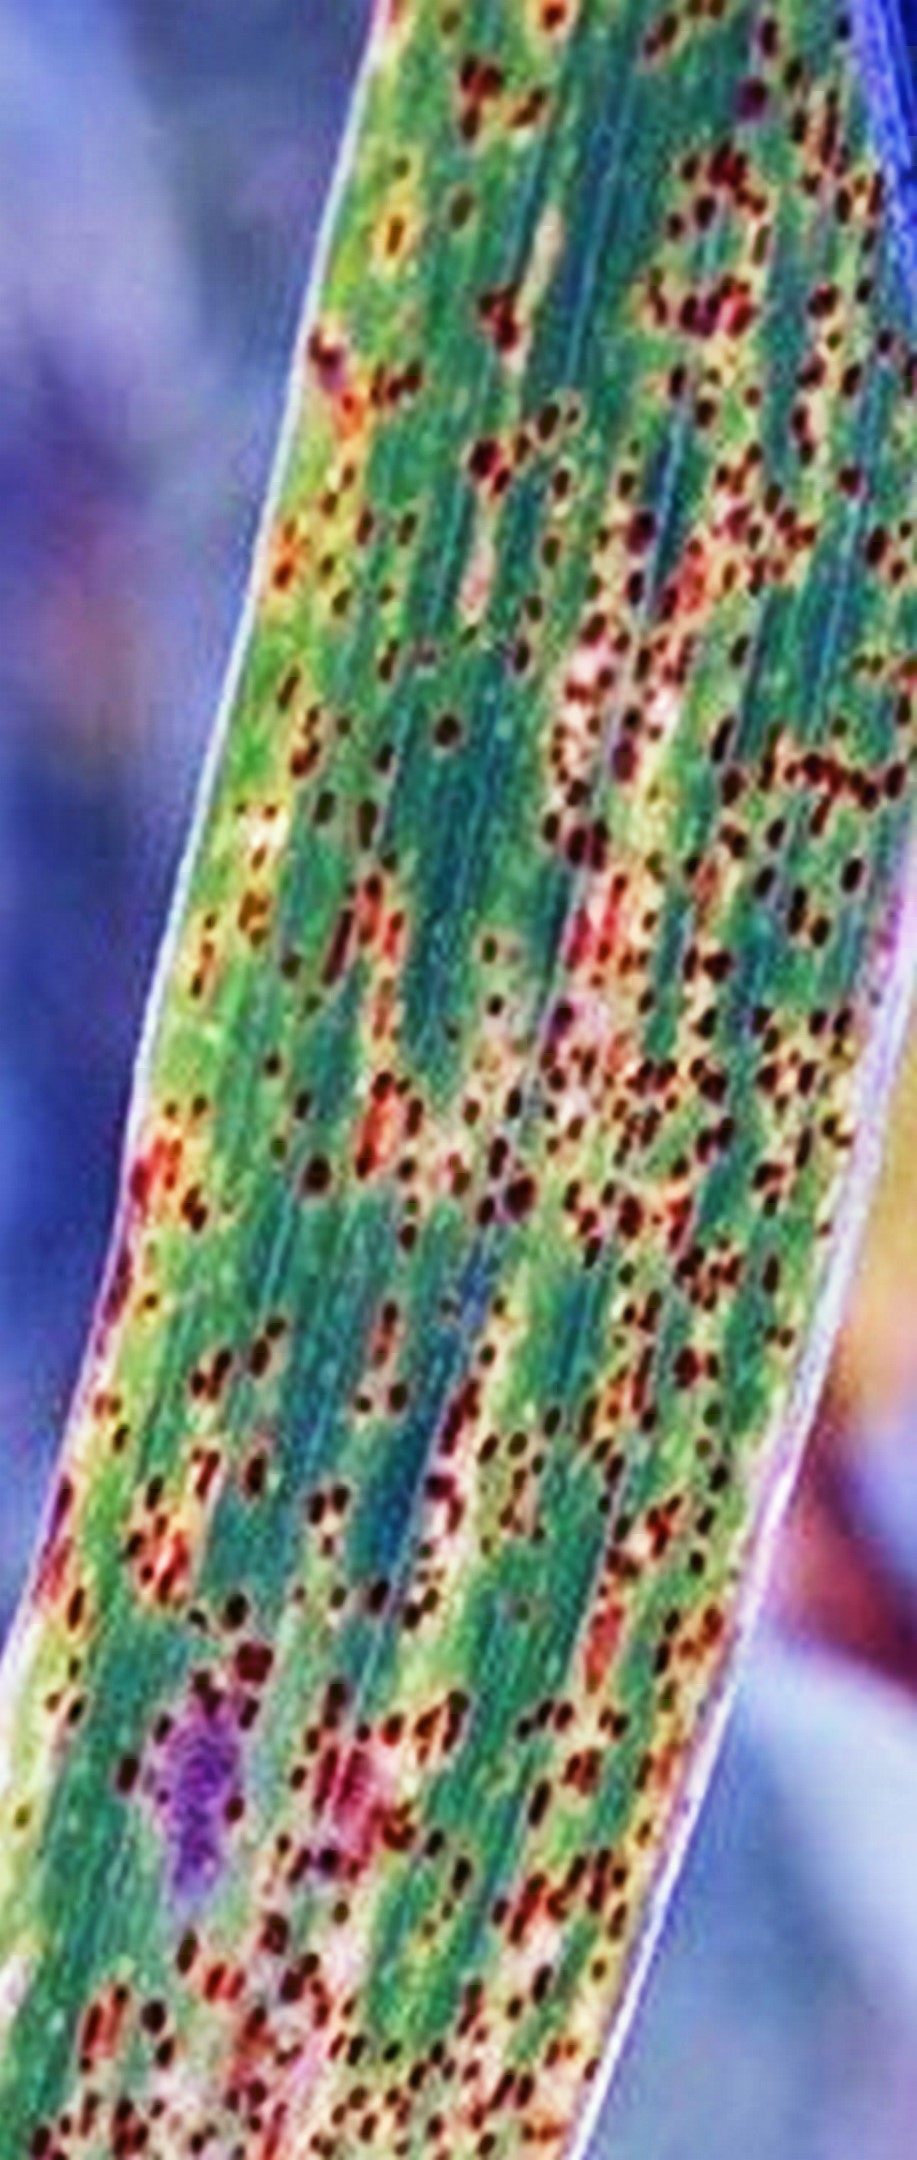Leaf Rust: (96, 233, 917, 2131)
